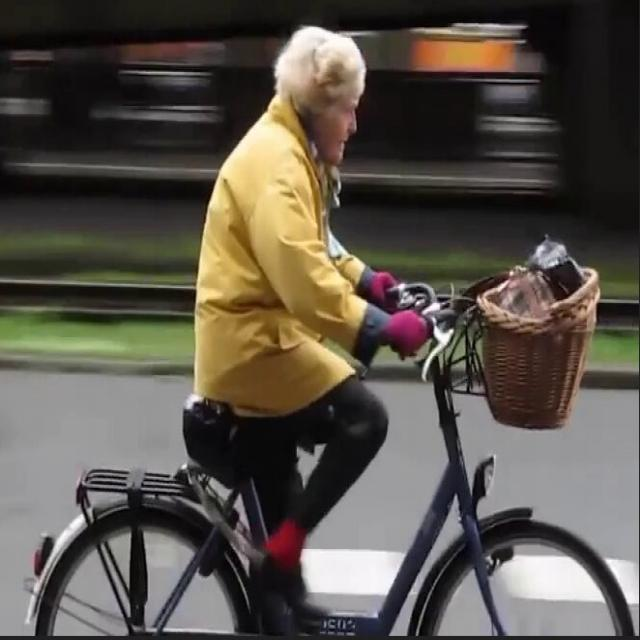car: (20, 245, 640, 640)
